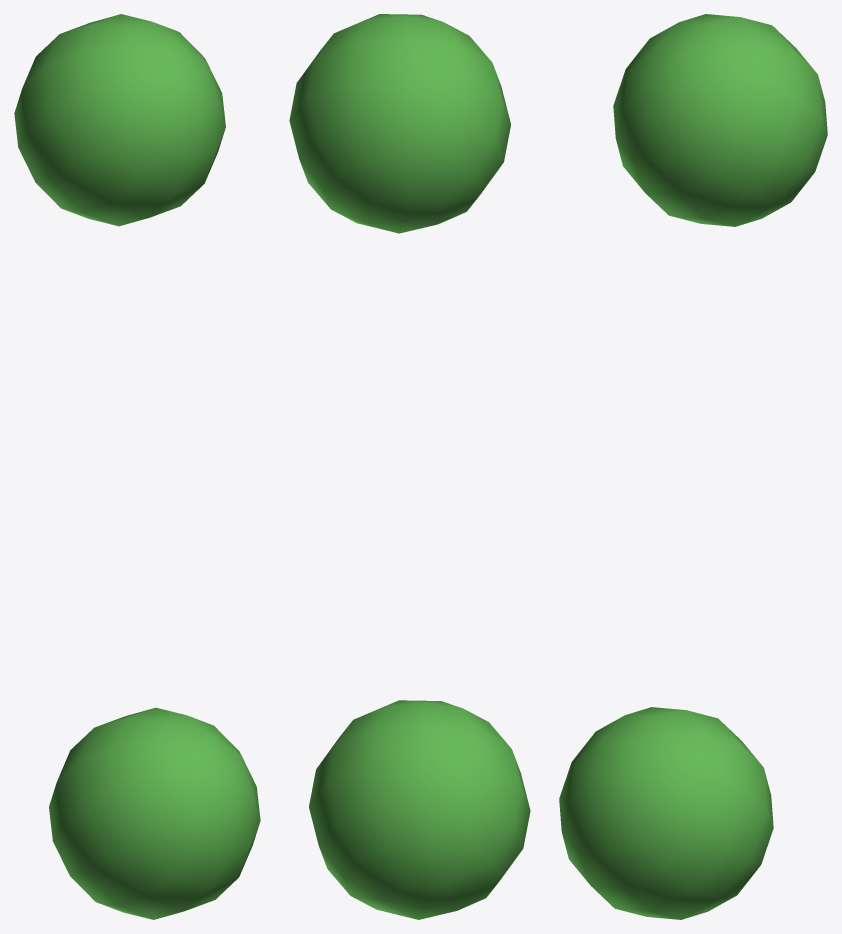
File: linfatico-retropharyngeal-nodes-r.glb
3 views of the same model, side by side, from view 1: azimuth 30°, elevation 25°; view 2: azimuth 150°, elevation 25°; view 3: azimuth 270°, elevation 25° (orthographic). The views are drawn at different scales.
Visible parts, largest first — view 1: Retropharyngeal nodes.r; view 2: Retropharyngeal nodes.r; view 3: Retropharyngeal nodes.r.
Part boxes in pixels (bbox=[...]): Retropharyngeal nodes.r: bbox=[14, 14, 260, 919]; Retropharyngeal nodes.r: bbox=[289, 14, 530, 919]; Retropharyngeal nodes.r: bbox=[559, 14, 827, 919].
Size of the model in its own units: 0.0027 by 0.0117 by 0.00323.
